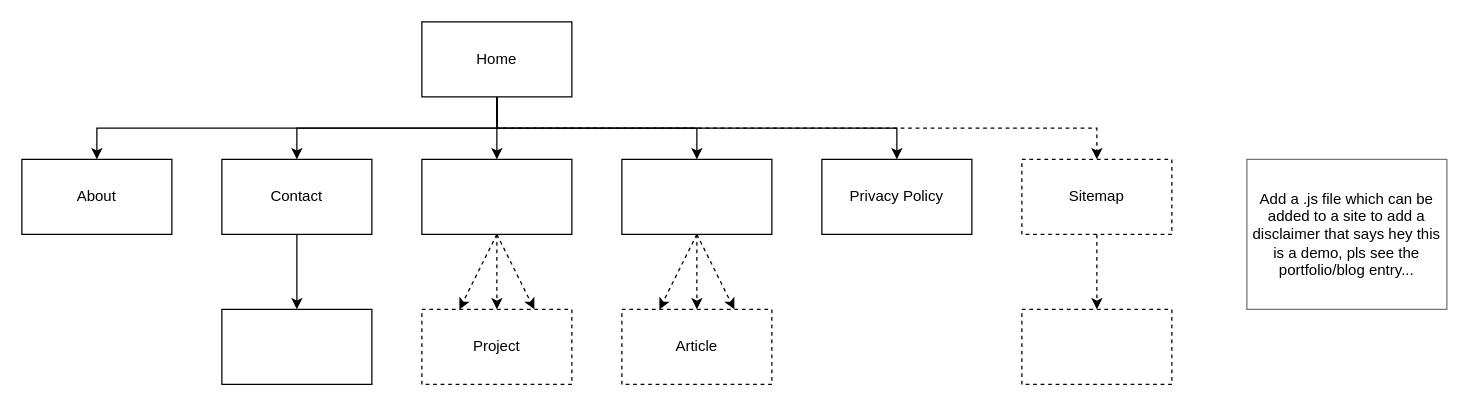
Image size: 1469x406. Some labels were removed from this diagram. The centre of each missing label's shape, as x and y in pixels:
Blog: the point at 696,196
Portfolio: the point at 496,196
Sitemap.xml: the point at 1096,346
Standing Invitation: the point at 296,346
